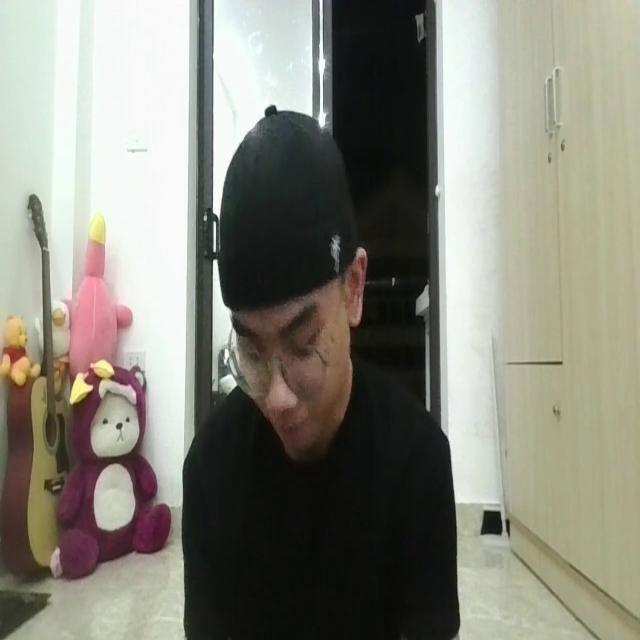student: (184, 92, 459, 640)
